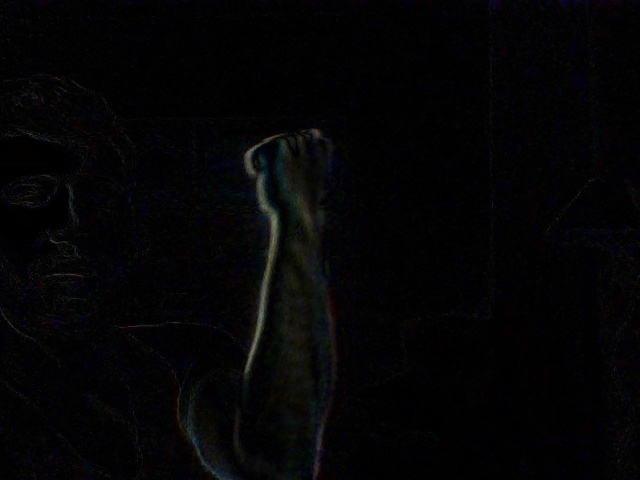hand_fi: (230, 118, 349, 235)
